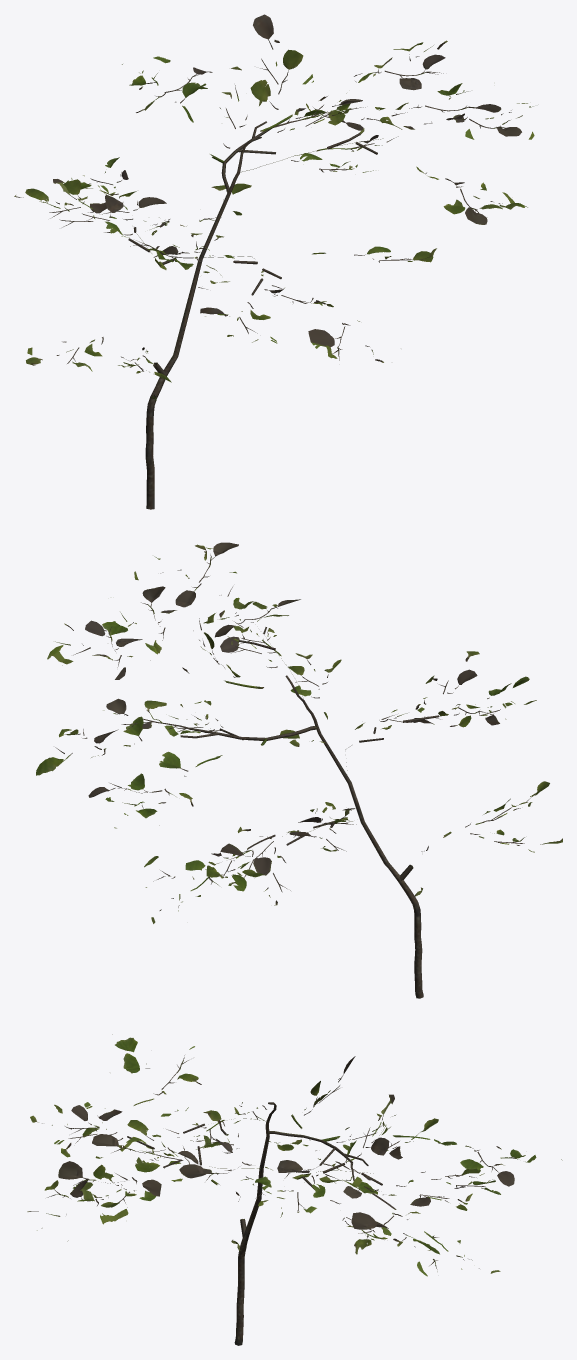
Rendered from SM_BlackAlder_Sapling_04_PP_LOD1.gltf.
The picture shows the model from 3 angles, top to bottom: view 1: azimuth 30°, elevation 25°; view 2: azimuth 150°, elevation 25°; view 3: azimuth 270°, elevation 25°; orthographic projection. The views are drawn at different scales.
Parts seen in each view (by area): view 1: SM_BlackAlder_Sapling_04_PP; view 2: SM_BlackAlder_Sapling_04_PP; view 3: SM_BlackAlder_Sapling_04_PP.
Part boxes in pixels (x1,y1,x2,y2): SM_BlackAlder_Sapling_04_PP: [14, 14, 534, 509]; SM_BlackAlder_Sapling_04_PP: [36, 542, 562, 998]; SM_BlackAlder_Sapling_04_PP: [27, 1034, 562, 1345].
Bounding box in the file's own units: 2.11 × 1.63 × 2.21.
Materials: 1 (1 with a texture image).
